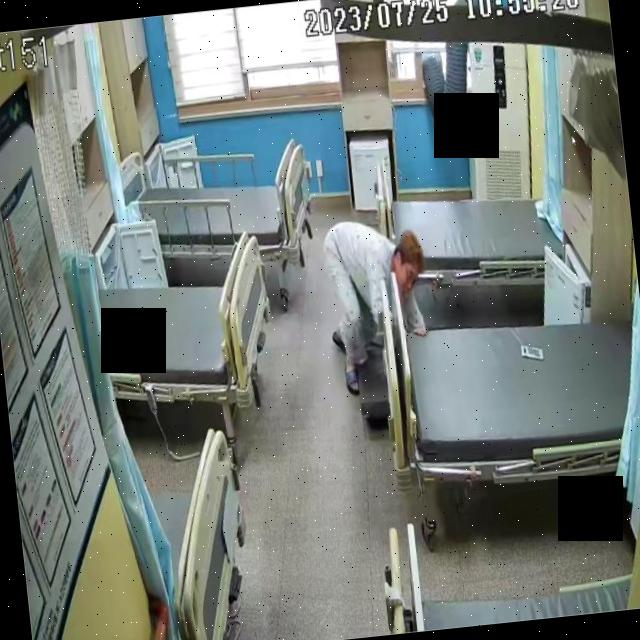bed: (397, 294, 640, 492), (93, 228, 283, 422), (117, 134, 314, 274), (374, 158, 566, 298)
danger: (320, 214, 438, 396)
patient: (320, 214, 440, 396)
